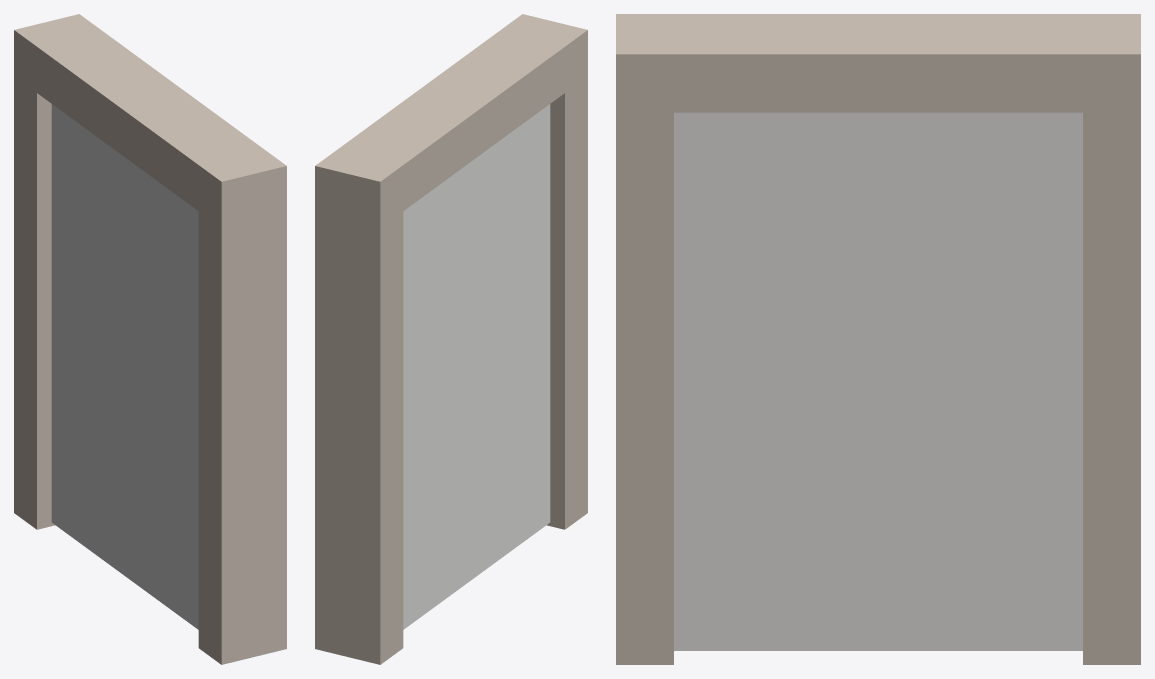
The model's file is Wall_house01.fbx.
3 renders of one model, left to right at view 1: azimuth 30°, elevation 25°; view 2: azimuth 150°, elevation 25°; view 3: azimuth 270°, elevation 25°, orthographic. The views are drawn at different scales.
Parts seen in each view (by area): view 1: Wall01_House01; view 2: Wall01_House01; view 3: Wall01_House01.
Boxes of the visible parts, <box> form: Wall01_House01: <box>14,14,286,664</box>; Wall01_House01: <box>315,14,587,664</box>; Wall01_House01: <box>616,14,1140,664</box>.
Size of the model in its own units: 46.8 by 331 by 258.
